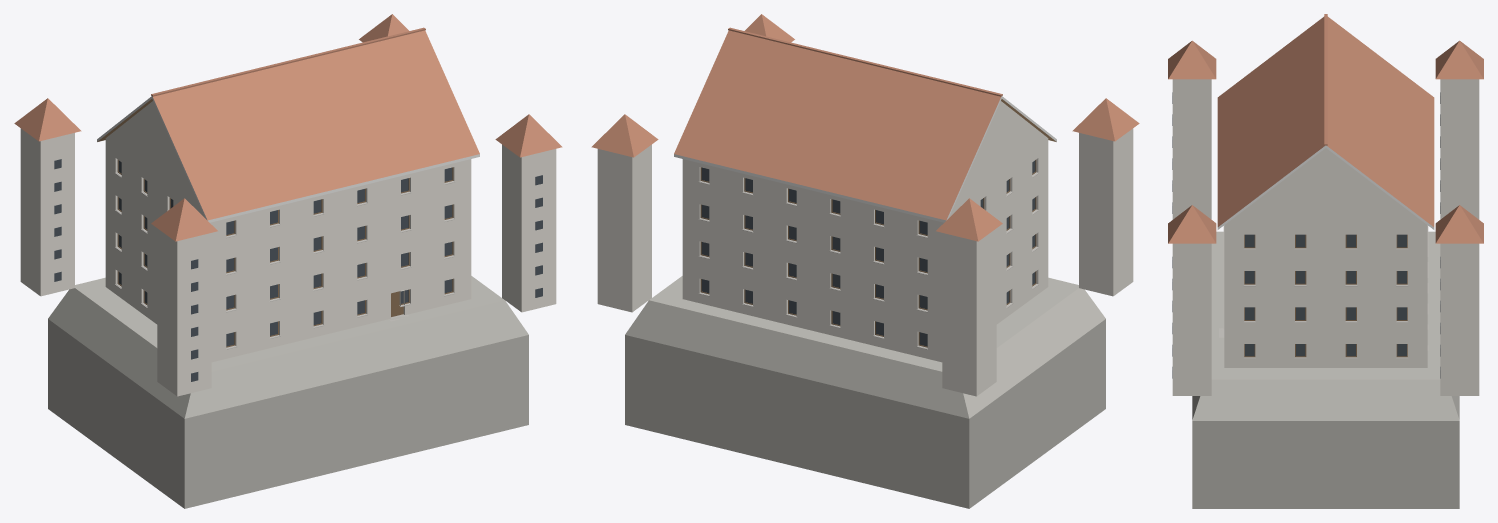
Rendered from nordic_castle_4_l.glb.
The picture shows the model from 3 angles, left to right: view 1: azimuth 30°, elevation 25°; view 2: azimuth 150°, elevation 25°; view 3: azimuth 270°, elevation 25°; orthographic projection. The views are drawn at different scales.
Parts seen in each view (by area): view 1: nordic_castle_4_l; view 2: nordic_castle_4_l; view 3: nordic_castle_4_l.
Boxes of the visible parts, x1,y1,x2,y2 form: nordic_castle_4_l: [14, 14, 562, 508]; nordic_castle_4_l: [591, 14, 1139, 508]; nordic_castle_4_l: [1168, 14, 1483, 508].
Size of the model in its own units: 35.97 by 31.55 by 25.97.
